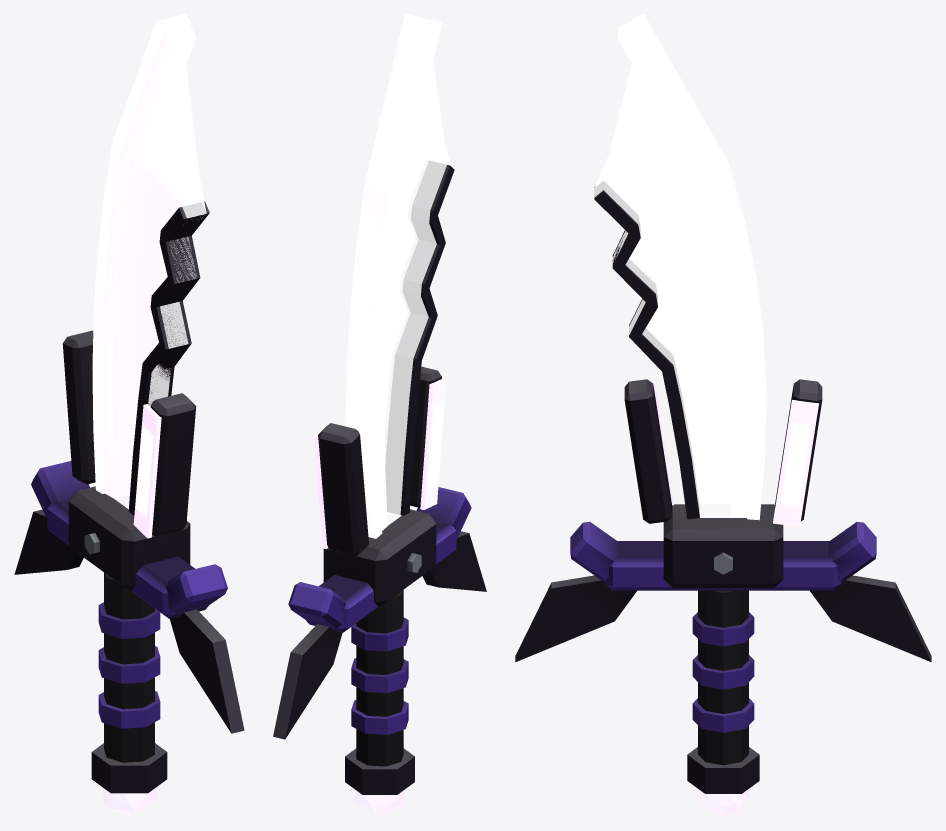
File: Saber.glb
3 views of the same model, side by side, from view 1: azimuth 30°, elevation 25°; view 2: azimuth 150°, elevation 25°; view 3: azimuth 270°, elevation 25° (orthographic). The views are drawn at different scales.
Visible parts, largest first — view 1: Body, Blade_Glow, Halo_Glow, Accent_Glow; view 2: Body, Blade_Glow, Halo_Glow, Accent_Glow; view 3: Body, Blade_Glow, Halo_Glow, Accent_Glow.
Boxes of the visible parts, x1,y1,x2,y2 form: Body: [14, 201, 244, 793]; Blade_Glow: [92, 14, 206, 509]; Halo_Glow: [102, 404, 161, 816]; Accent_Glow: [112, 427, 153, 806]; Body: [273, 161, 486, 794]; Blade_Glow: [345, 14, 450, 538]; Halo_Glow: [313, 378, 446, 816]; Accent_Glow: [363, 401, 444, 806]; Body: [515, 181, 931, 793]; Blade_Glow: [594, 14, 766, 520]; Halo_Glow: [651, 381, 818, 816]; Accent_Glow: [706, 422, 811, 806].
Size of the model in its own units: 0.49 by 4.85 by 2.3.
